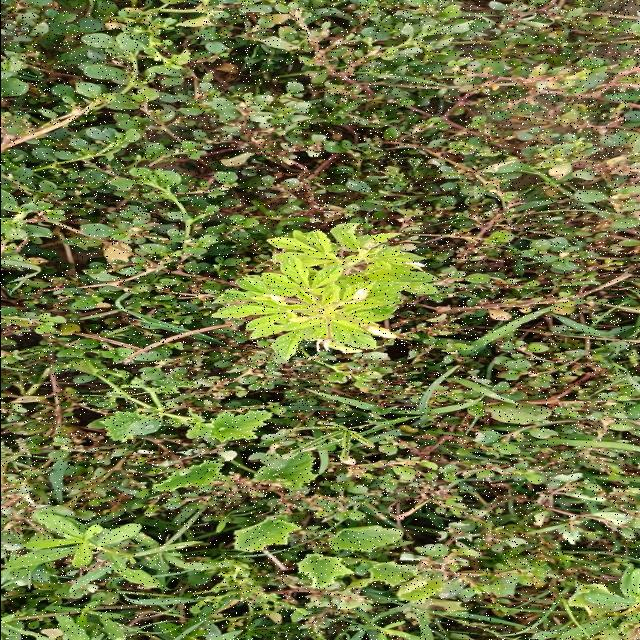plant: (212, 222, 438, 360)
